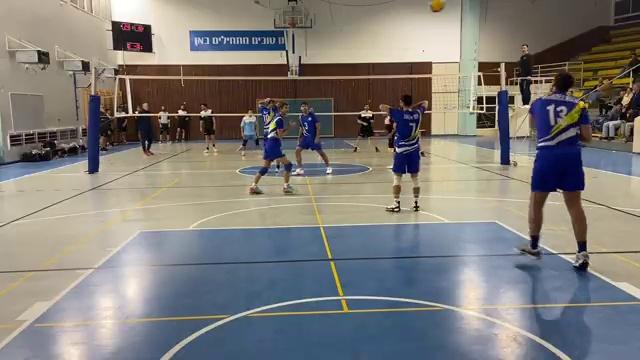ball: (427, 2, 450, 12)
